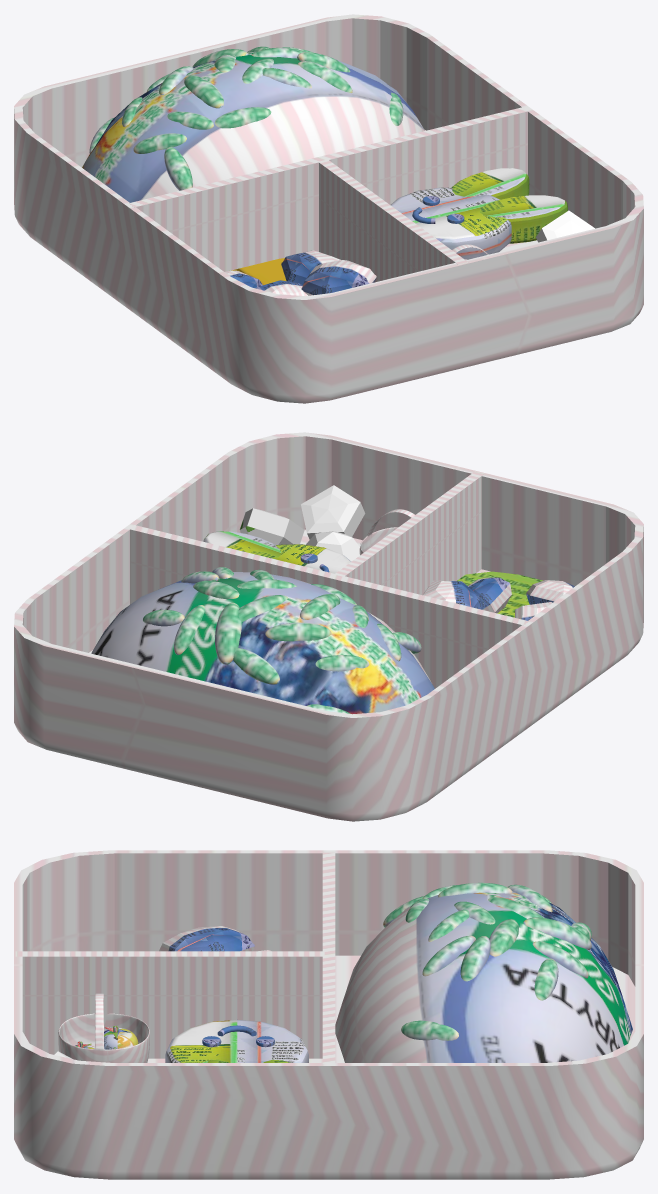
The model's file is MoXuanEnShannon_Tray1.fbx.
3 views of the same model, one above another, from view 1: azimuth 30°, elevation 25°; view 2: azimuth 150°, elevation 25°; view 3: azimuth 270°, elevation 25° (orthographic). The views are drawn at different scales.
Parts seen in each view (by area): view 1: pCube4, rice, pCube3, pCube2, face, ear_r, ear_l, chicken6, chicken, carrot, rice_grain18, rice_grain7 (+6 smaller); view 2: pCube4, rice, pCube3, pCube2, carrot1, carrot, rice_grain17, face, pCube53, ear_r, chicken6, chicken2 (+11 smaller); view 3: pCube4, rice, pCube2, face, basket, pCube3, chicken7, rice_grain17, rice_grain19, rice_grain10, rice_grain5, rice_grain8 (+8 smaller).
Boxes of the visible parts, x1=… form: pCube4: x1=14, y1=14, x2=643, y2=403; rice: x1=82, y1=51, x2=424, y2=202; pCube3: x1=129, y1=107, x2=528, y2=271; pCube2: x1=318, y1=159, x2=468, y2=282; face: x1=390, y1=187, x2=511, y2=259; ear_r: x1=480, y1=195, x2=567, y2=243; ear_l: x1=451, y1=168, x2=529, y2=199; chicken6: x1=301, y1=260, x2=376, y2=295; chicken: x1=281, y1=250, x2=340, y2=285; carrot: x1=536, y1=210, x2=594, y2=242; rice_grain18: x1=164, y1=147, x2=192, y2=190; rice_grain7: x1=214, y1=107, x2=271, y2=128; pCube4: x1=14, y1=432, x2=643, y2=821; rice: x1=91, y1=572, x2=434, y2=714; pCube3: x1=129, y1=525, x2=528, y2=688; pCube2: x1=334, y1=471, x2=484, y2=595; carrot1: x1=301, y1=485, x2=365, y2=539; carrot: x1=240, y1=508, x2=304, y2=544; rice_grain17: x1=215, y1=602, x2=241, y2=664; face: x1=273, y1=544, x2=351, y2=573; pCube53: x1=456, y1=571, x2=542, y2=617; ear_r: x1=203, y1=531, x2=281, y2=558; chicken6: x1=423, y1=580, x2=483, y2=609; chicken2: x1=468, y1=577, x2=511, y2=613; pCube4: x1=14, y1=850, x2=643, y2=1179; rice: x1=335, y1=891, x2=632, y2=1062; pCube2: x1=15, y1=951, x2=324, y2=1058; face: x1=165, y1=1019, x2=308, y2=1062; basket: x1=58, y1=993, x2=149, y2=1062; pCube3: x1=322, y1=852, x2=335, y2=1063; chicken7: x1=159, y1=926, x2=254, y2=951; rice_grain17: x1=523, y1=917, x2=591, y2=949; rice_grain19: x1=401, y1=1020, x2=458, y2=1040; rice_grain10: x1=460, y1=936, x2=490, y2=981; rice_grain5: x1=422, y1=935, x2=475, y2=976; rice_grain8: x1=489, y1=919, x2=518, y2=956.
Bounding box in the file's own units: 3.11 × 1.13 × 3.84.
